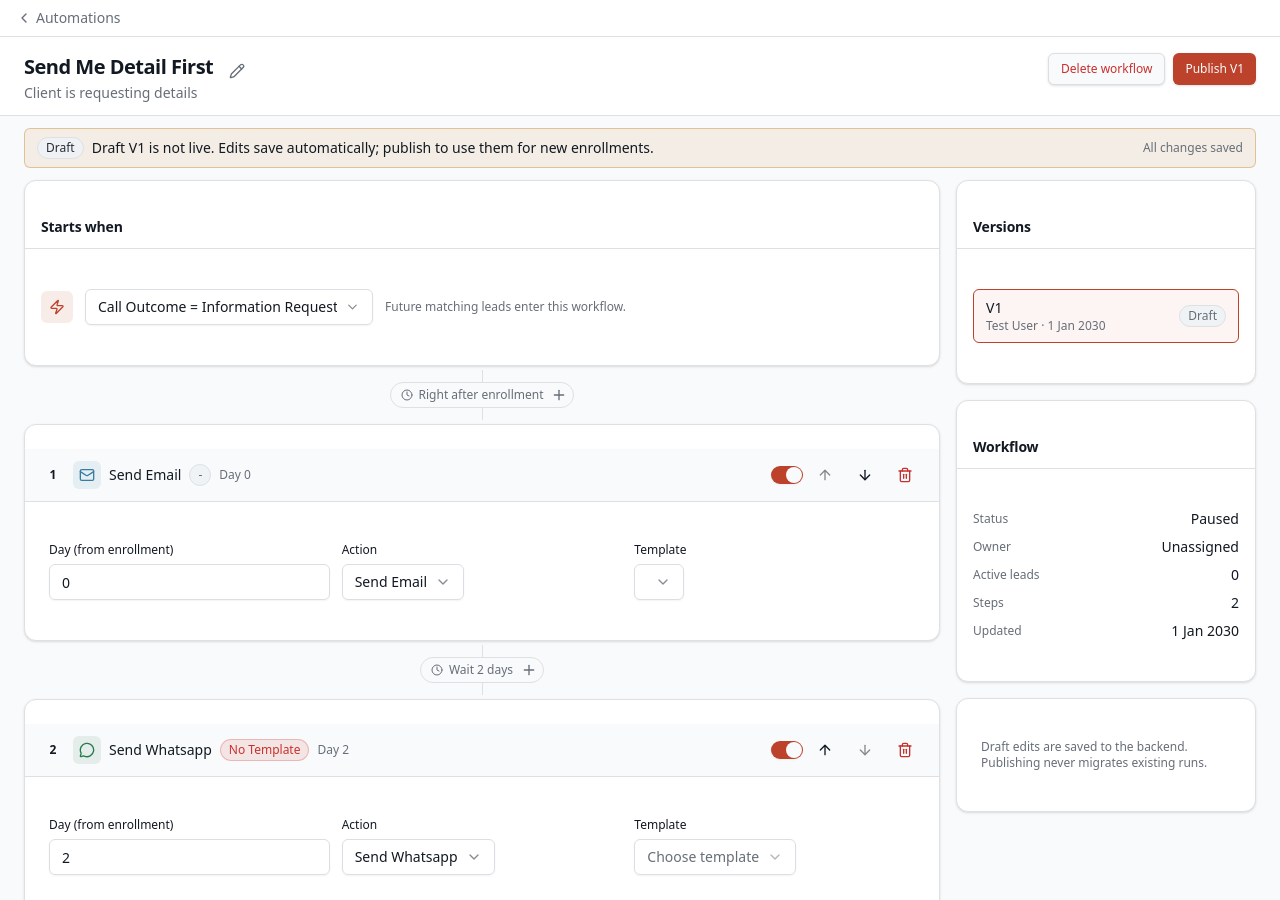
Test: WorkflowBuilderPage step flow › says the draft is not saved when the server refuses the steps
Click the button named "Insert step before step 2": (529, 670) [519,660,539,680]
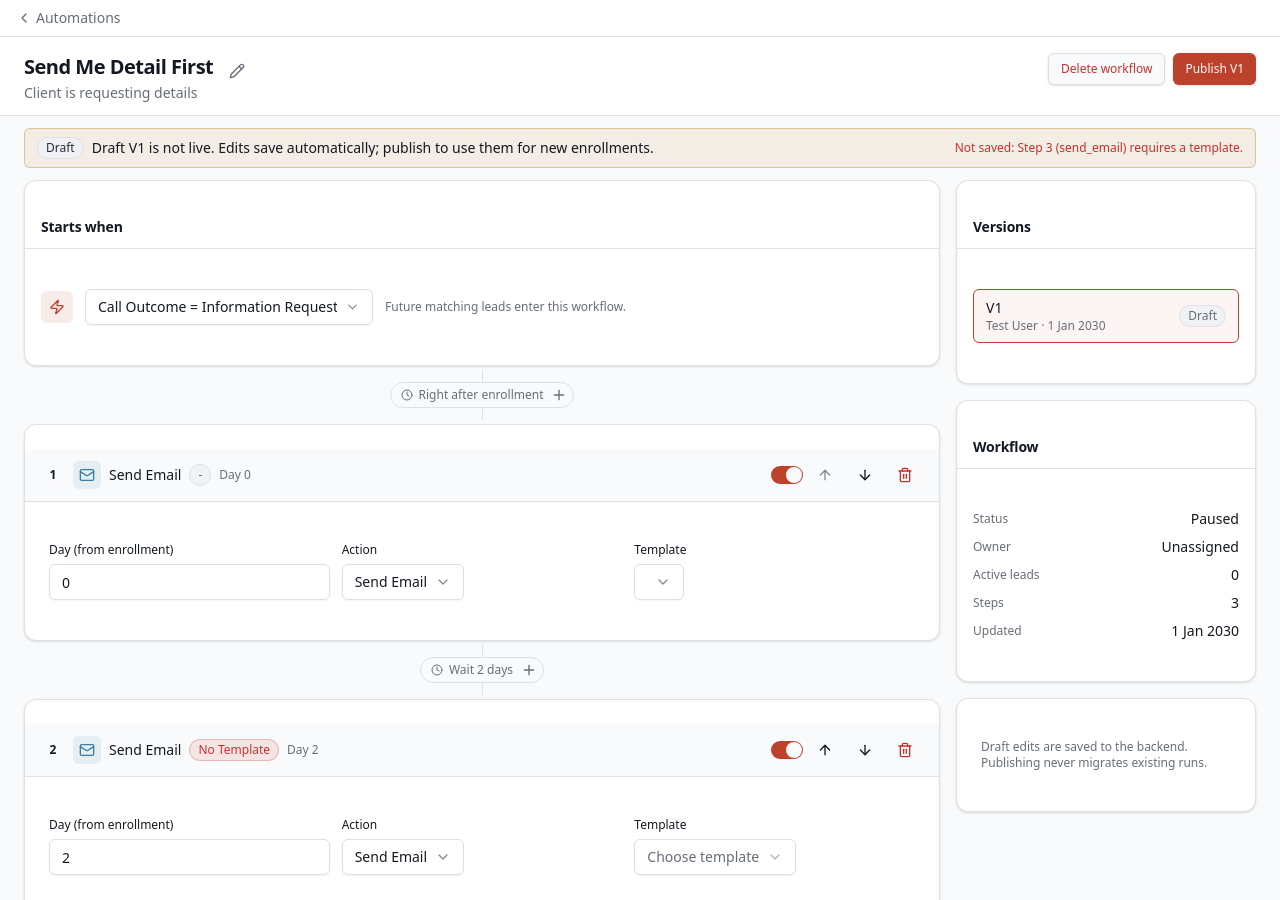
expect the message shows "Not saved: Step 3 (send_email) requires a template.": met, box [955,139,1243,156]
